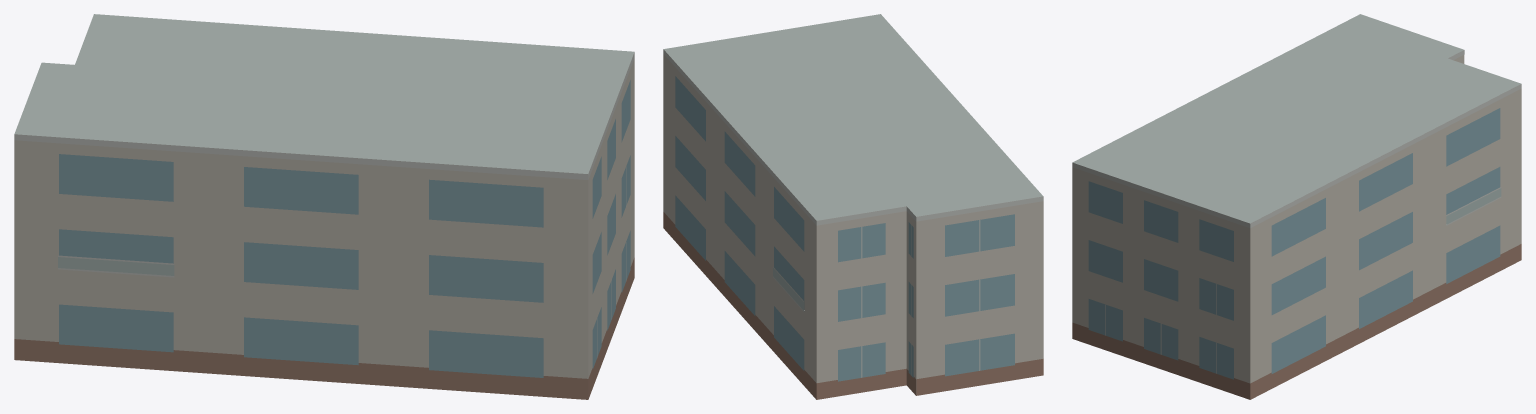
File: survey-upis-32778336.glb
The picture shows the model from 3 angles, left to right: view 1: azimuth 30°, elevation 25°; view 2: azimuth 150°, elevation 25°; view 3: azimuth 270°, elevation 25°; orthographic projection. The views are drawn at different scales.
Parts seen in each view (by area): view 1: survey-upis-32778336.tmp; view 2: survey-upis-32778336.tmp; view 3: survey-upis-32778336.tmp.
Boxes of the visible parts, x1,y1,x2,y2 form: survey-upis-32778336.tmp: (14, 14, 634, 399); survey-upis-32778336.tmp: (663, 14, 1043, 399); survey-upis-32778336.tmp: (1072, 14, 1521, 399).
Size of the model in its own units: 23.33 by 9.15 by 21.14.
